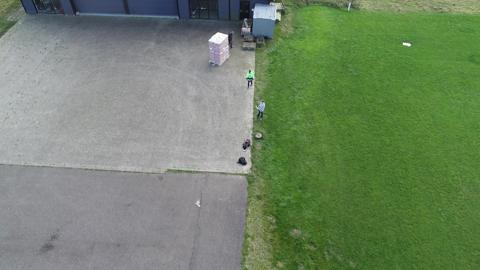RockwoolPallet: (207, 32, 230, 62)
